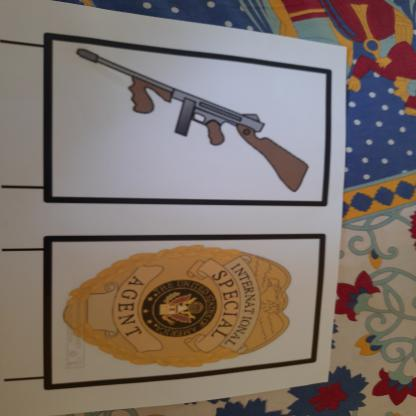Bootlegger: (63, 42, 326, 204)
G-man: (50, 237, 315, 381)
